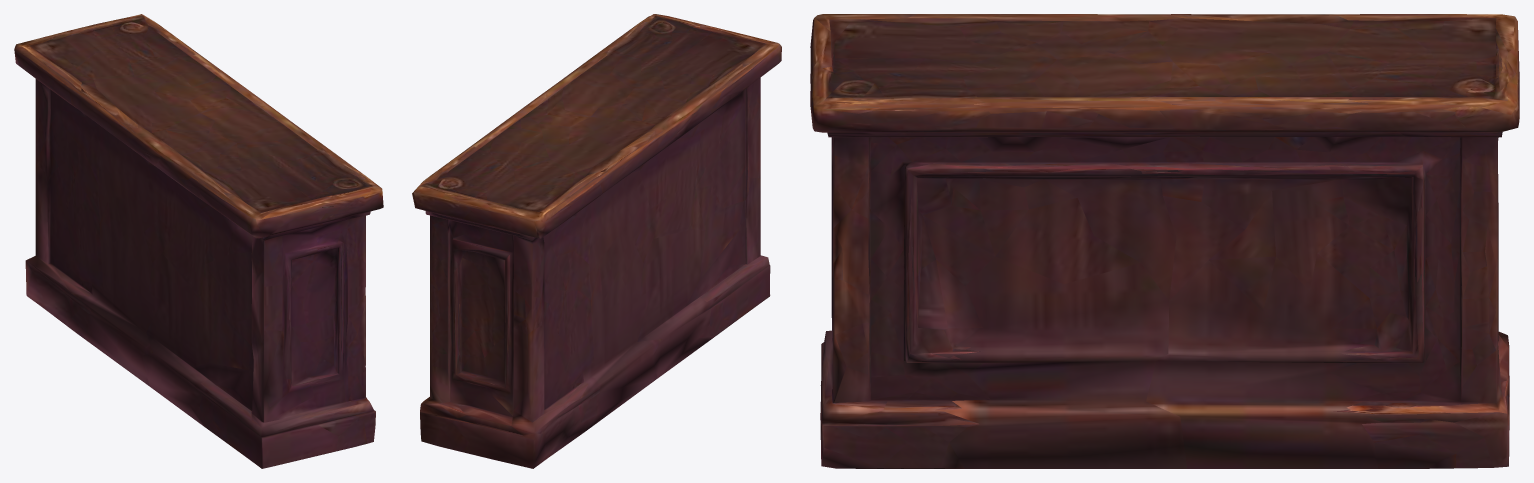
File: 木制吧台柜台.glb
3 renders of one model, left to right at view 1: azimuth 30°, elevation 25°; view 2: azimuth 150°, elevation 25°; view 3: azimuth 270°, elevation 25°, orthographic. The views are drawn at different scales.
Visible parts, largest first — view 1: tripo_node_0b07658e-b7d5-4558-a8ff-e88c6d628ef6; view 2: tripo_node_0b07658e-b7d5-4558-a8ff-e88c6d628ef6; view 3: tripo_node_0b07658e-b7d5-4558-a8ff-e88c6d628ef6.
Part boxes in pixels (<box>): tripo_node_0b07658e-b7d5-4558-a8ff-e88c6d628ef6: <box>14,14,383,468</box>; tripo_node_0b07658e-b7d5-4558-a8ff-e88c6d628ef6: <box>412,14,781,468</box>; tripo_node_0b07658e-b7d5-4558-a8ff-e88c6d628ef6: <box>810,14,1519,468</box>.
Size of the model in its own units: 0.3155 by 0.5764 by 1.
Materials: 1 (1 with a texture image).
